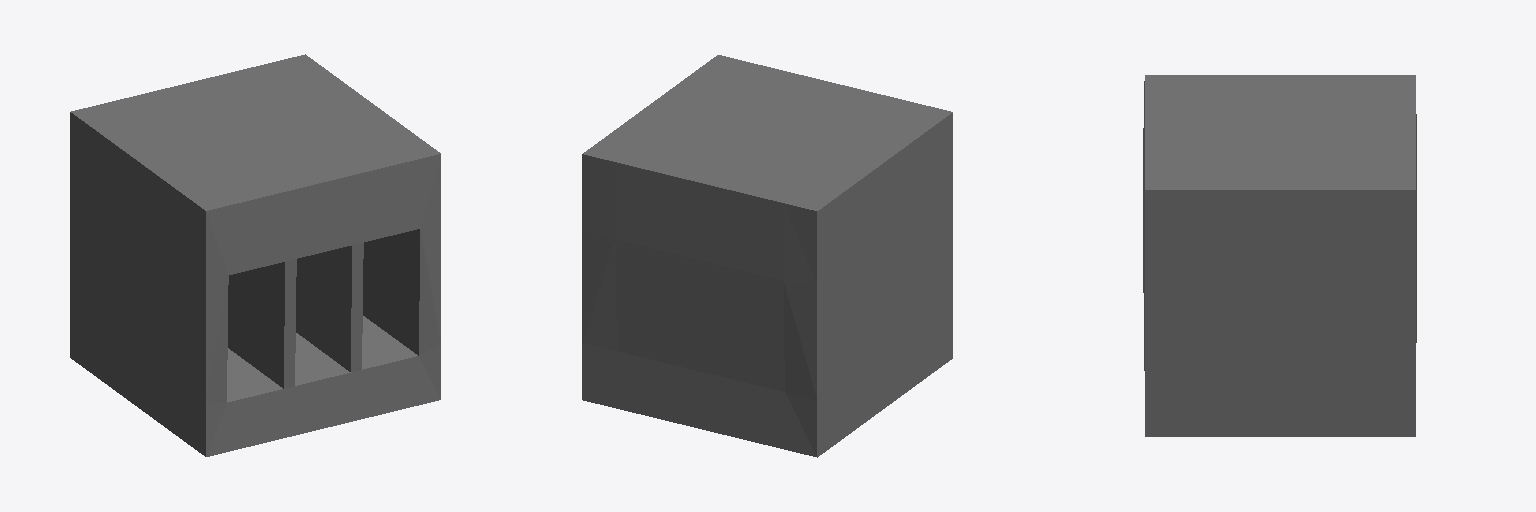
Rendered from model_slot.obj.
3 views of the same model, side by side, from view 1: azimuth 30°, elevation 25°; view 2: azimuth 150°, elevation 25°; view 3: azimuth 270°, elevation 25° (orthographic).
Parts seen in each view (by area): view 1: pCube1; view 2: pCube1; view 3: pCube1.
Boxes of the visible parts, box(x1,y1,x2,y2) form: pCube1: box(70, 54, 440, 456); pCube1: box(582, 55, 952, 457); pCube1: box(1143, 75, 1416, 436).
Bounding box in the file's own units: 1.7 × 1.7 × 1.72.